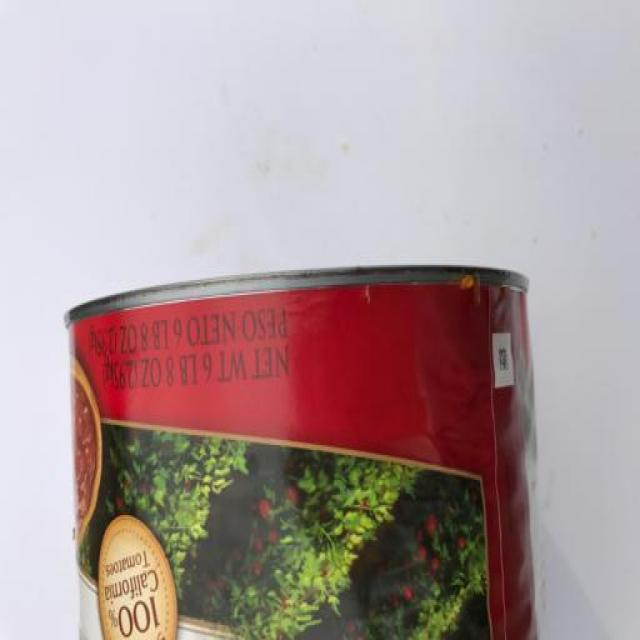metel: (46, 254, 605, 640)
